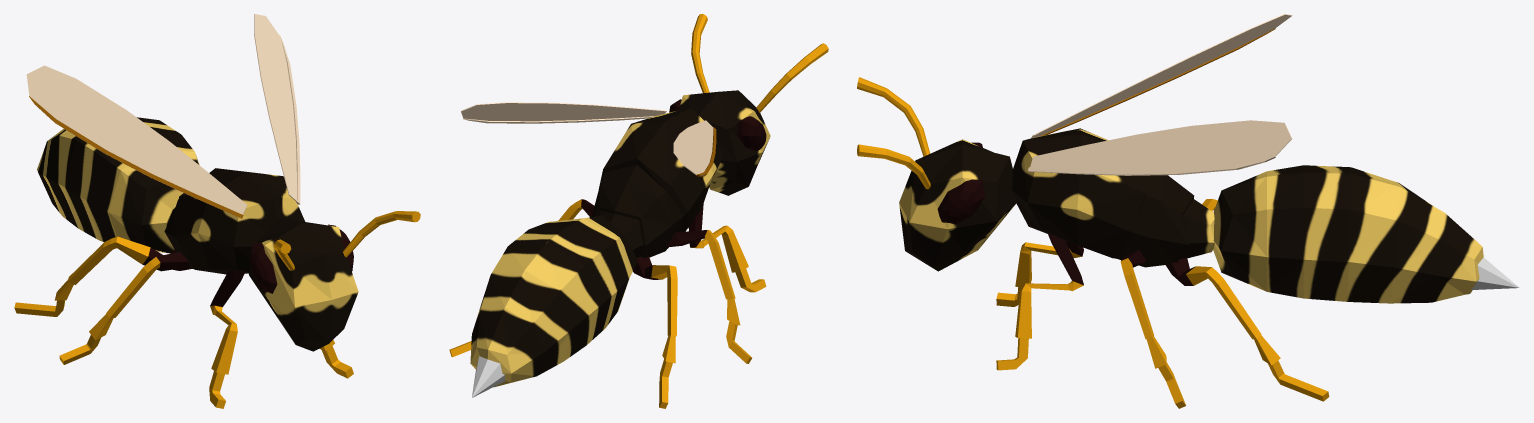
Rendered from wasp.gltf.
The picture shows the model from 3 angles, left to right: view 1: azimuth 30°, elevation 25°; view 2: azimuth 150°, elevation 25°; view 3: azimuth 270°, elevation 25°; orthographic projection. The views are drawn at different scales.
Visible parts, largest first — view 1: node-0; view 2: node-0; view 3: node-0.
Boxes of the visible parts, box(x1,y1,x2,y2) form: node-0: box(14, 14, 420, 408); node-0: box(449, 14, 828, 408); node-0: box(857, 14, 1519, 408).
Bounding box in the file's own units: 2.79 × 2.5 × 5.48.
Materials: 8 (1 with a texture image).
